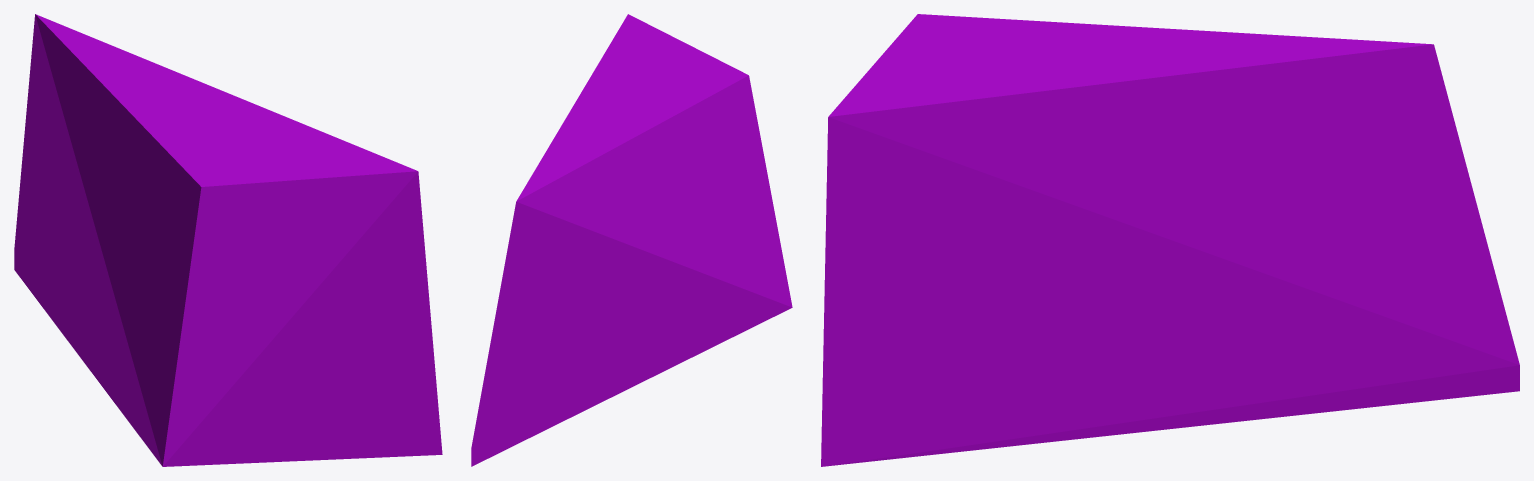
The model's file is coffee_convex_piece_013.obj.
3 renders of one model, left to right at view 1: azimuth 30°, elevation 25°; view 2: azimuth 150°, elevation 25°; view 3: azimuth 270°, elevation 25°, orthographic. The views are drawn at different scales.
Size of the model in its own units: 9.3e-05 by 0.000104 by 0.000195.
